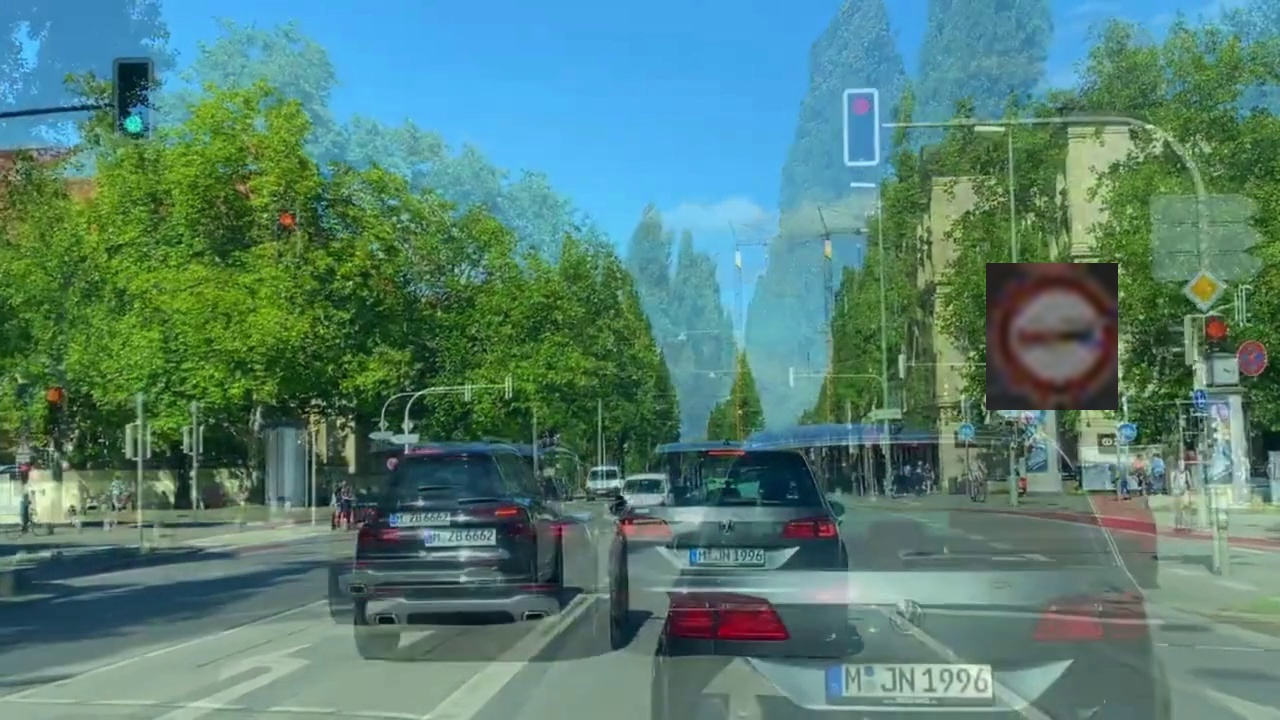No passing: (986, 263, 1118, 410)
